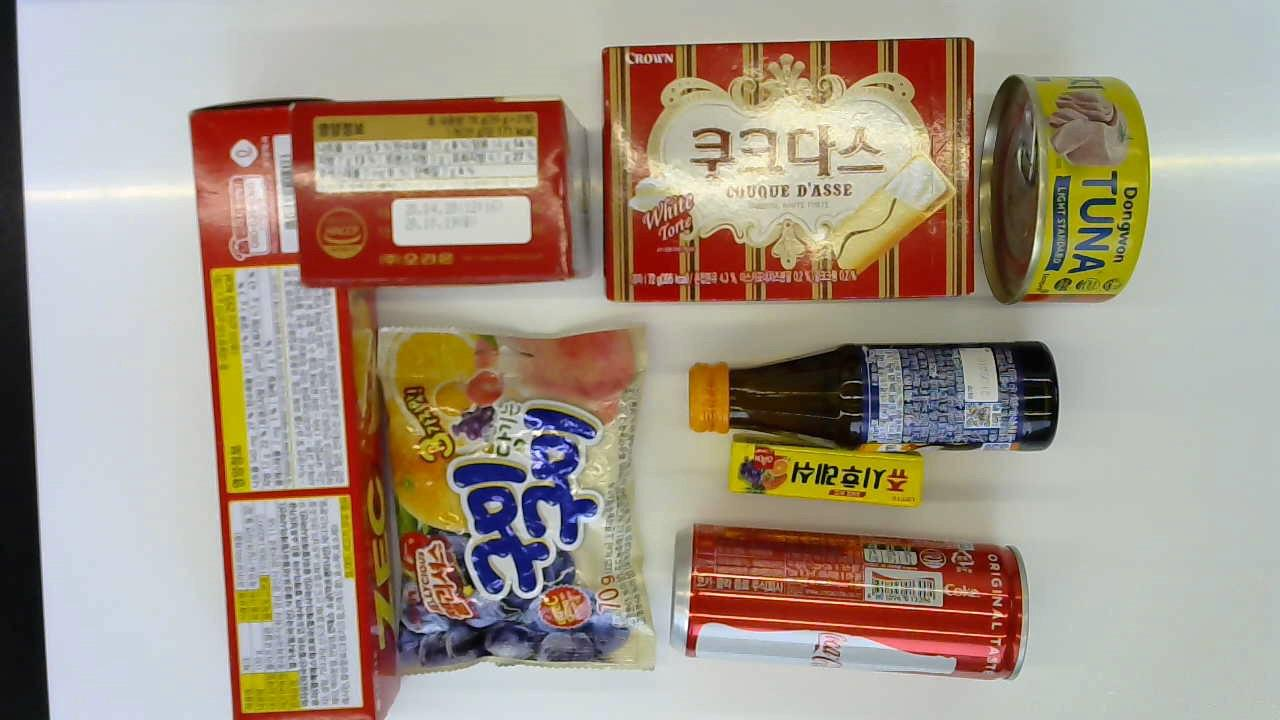chocopie: (293, 99, 591, 284)
coke: (670, 524, 1029, 678)
couque_white: (598, 36, 975, 300)
gumi_gumi: (372, 320, 649, 675)
juicyfresh: (725, 437, 926, 510)
tuna: (977, 76, 1147, 302)
vita500: (687, 344, 1057, 449)
zec: (189, 94, 404, 720)
